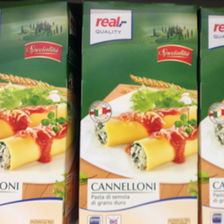pasta: (79, 1, 200, 223), (1, 1, 78, 224)
